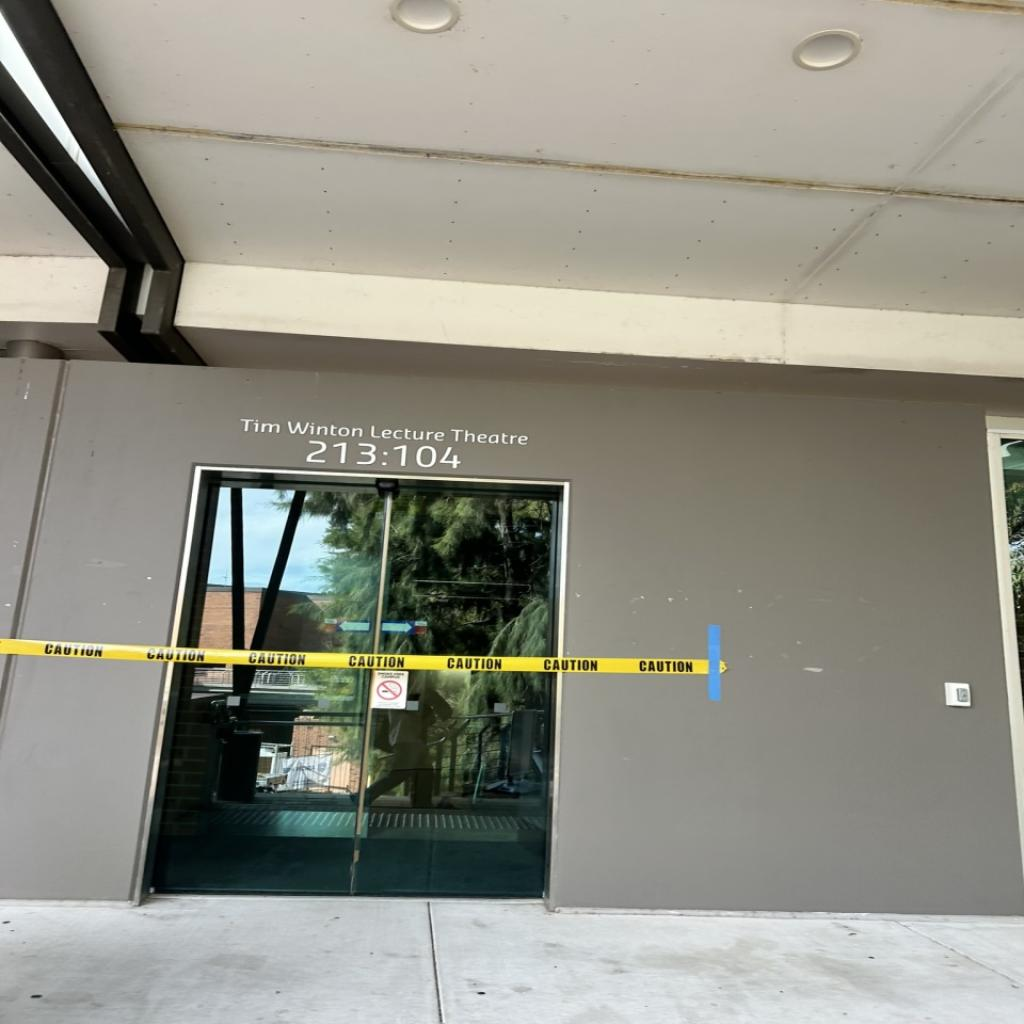BuildingCodes: (304, 439, 378, 467), (392, 442, 462, 470)
